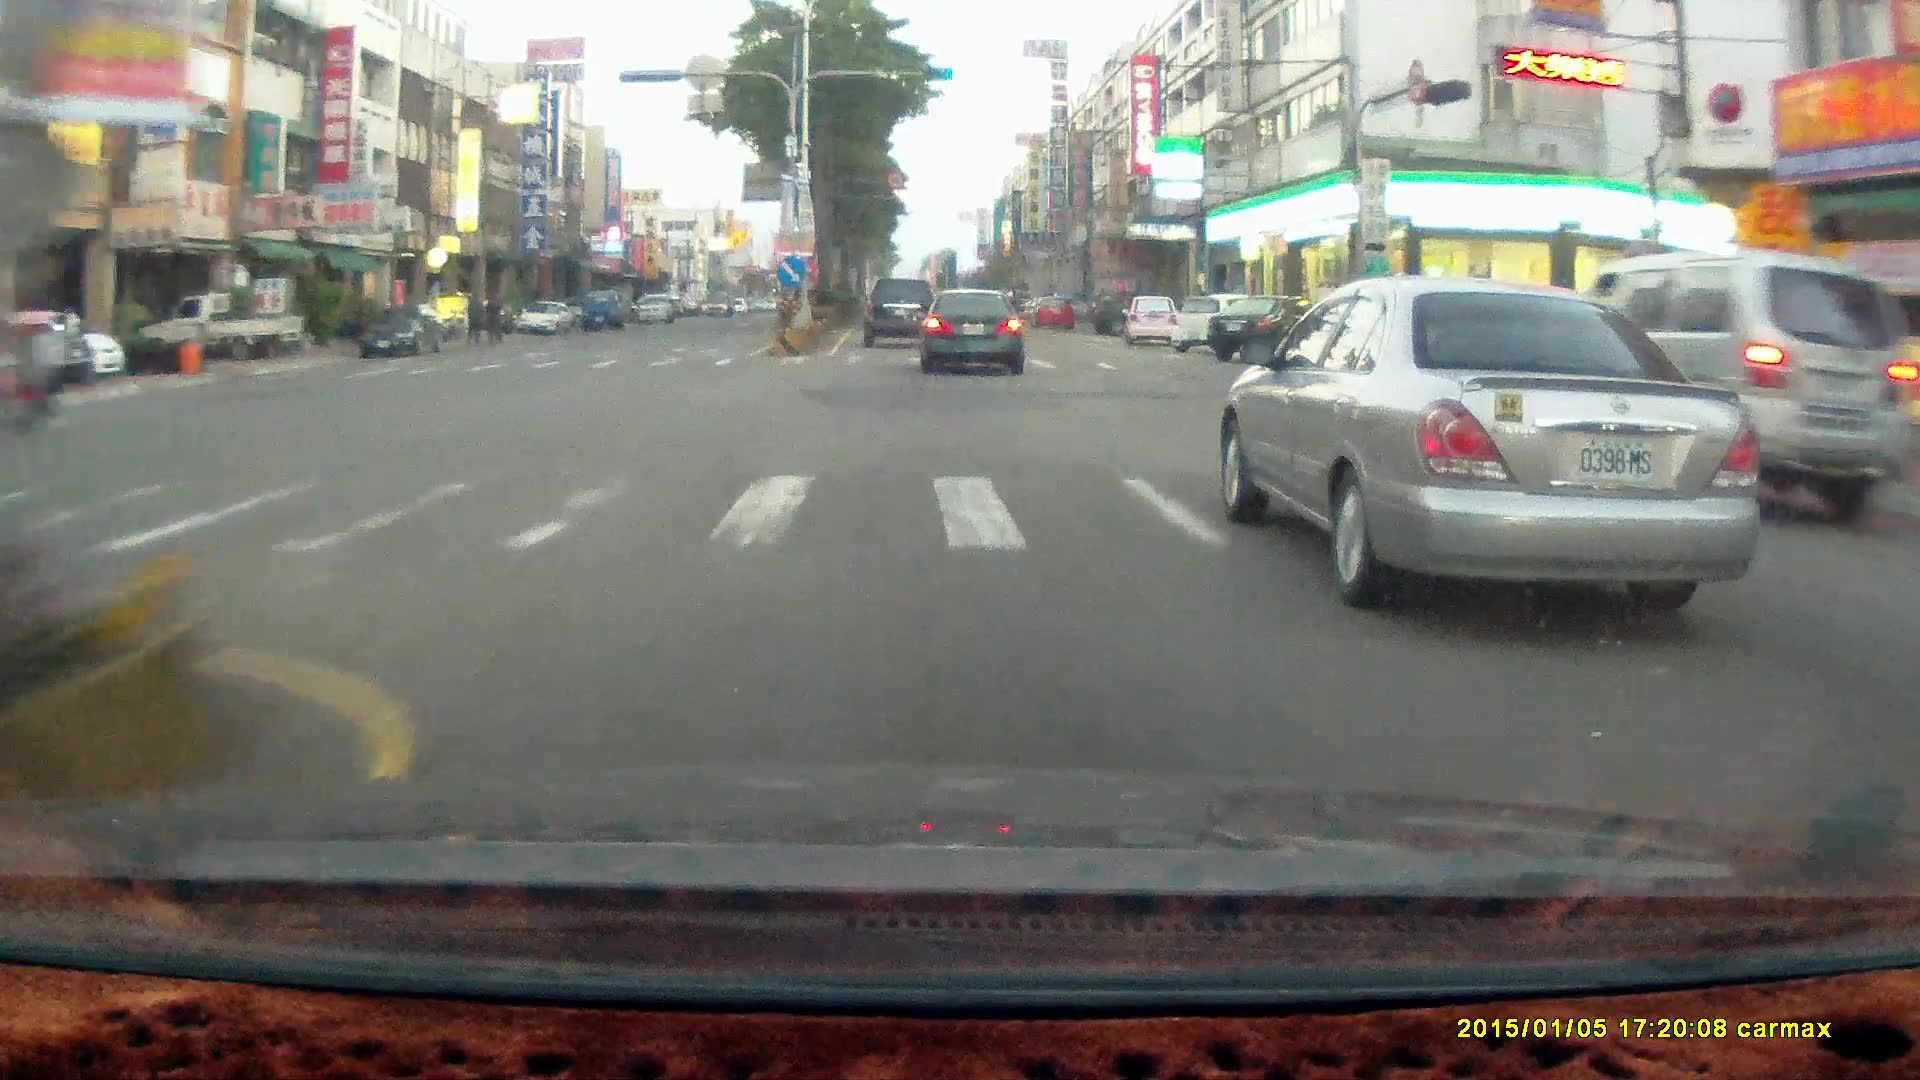pedestrian: (486, 281, 510, 343), (464, 287, 486, 346), (483, 289, 504, 346), (463, 289, 483, 347)
vehicle: (1224, 283, 1762, 603), (1544, 254, 1916, 522), (1545, 255, 1912, 505), (136, 293, 306, 373), (132, 292, 303, 366), (923, 292, 1031, 381), (920, 287, 1023, 375), (1206, 291, 1334, 359), (1, 316, 102, 400), (1211, 295, 1324, 363), (0, 314, 87, 390), (353, 299, 451, 361), (1173, 293, 1269, 354), (862, 276, 936, 352), (862, 276, 938, 347), (360, 308, 443, 357), (1118, 296, 1180, 349), (1090, 290, 1159, 335), (1125, 295, 1180, 347), (515, 300, 576, 337), (515, 301, 571, 334), (580, 288, 620, 328), (1031, 293, 1074, 328), (636, 294, 672, 323)
